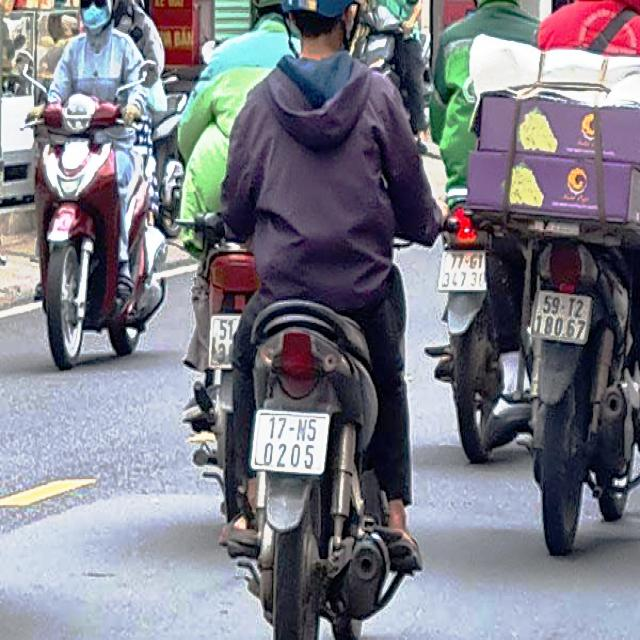license_plate: (253, 412, 330, 475), (530, 289, 592, 345), (442, 248, 487, 290)
